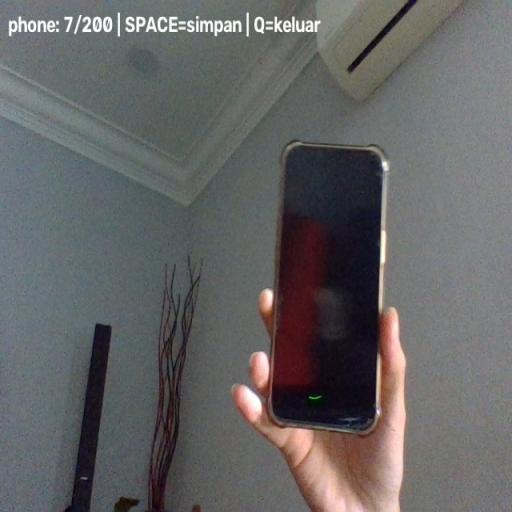Phone: (266, 139, 390, 436)
